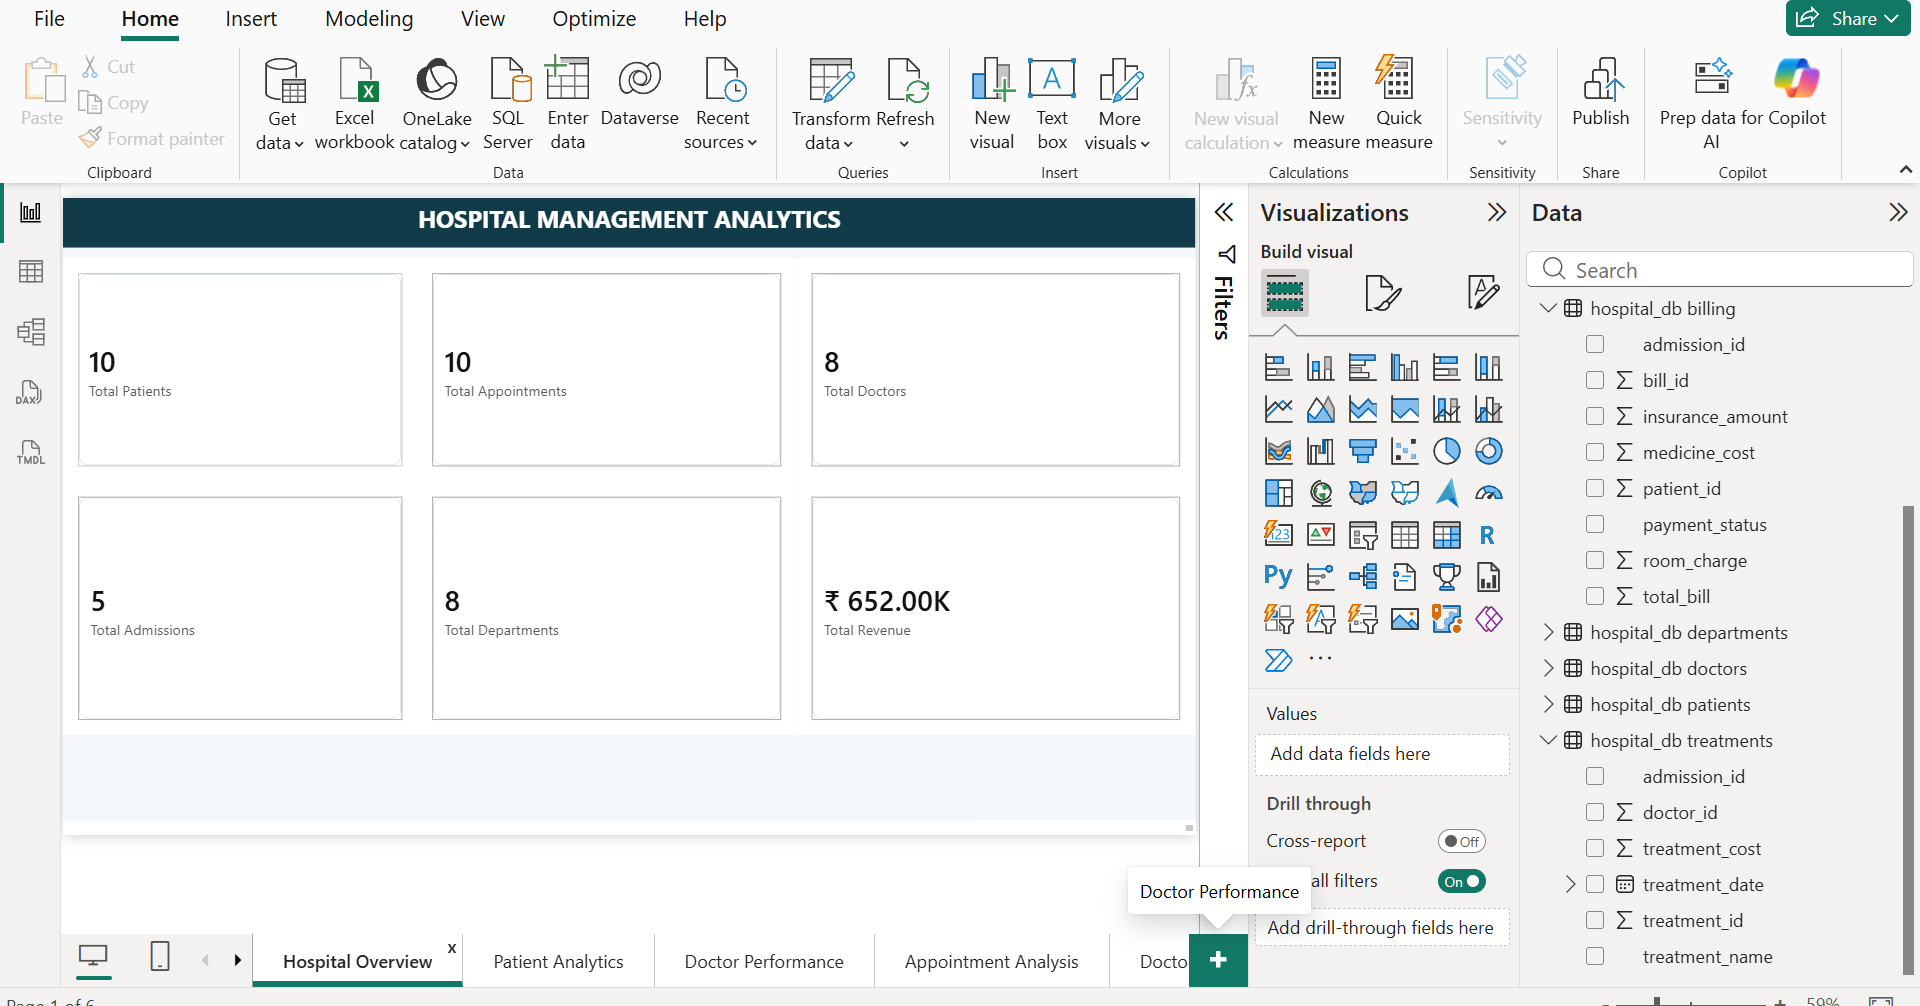

This screenshot's page, from the dashboard's own definition file:
{"tool":"powerbi","page":{"name":"Hospital Overview","canvas":[1280,720],"ordinal":0},"visuals":[{"type":"cardVisual","title":"Total Patients","fields":{"Data":["CountNonNull(hospital_db patients.patient_id)"]},"box":[0,67.8,400,252.5],"z":0},{"type":"cardVisual","title":"Total Doctors","fields":{"Data":["CountNonNull(hospital_db doctors.doctor_id)"]},"box":[828.8,67.8,450.8,252.5],"z":1000},{"type":"cardVisual","title":"Total Departments","fields":{"Data":["CountNonNull(hospital_db departments.department_id)"]},"box":[400,320.3,428.8,286.4],"z":2000},{"type":"cardVisual","title":"Total Appointments","fields":{"Data":["CountNonNull(hospital_db appointments.appointment_id)"]},"box":[400,67.8,428.8,252.5],"z":3000},{"type":"cardVisual","title":"Total Admissions","fields":{"Data":["CountNonNull(hospital_db admissions.admission_id)"]},"box":[0,320.3,400,286.4],"z":4000},{"type":"cardVisual","title":"Total Revenue","fields":{"Data":["Sum(hospital_db billing.total_bill)"]},"box":[828.8,320.3,450.8,286.4],"z":5000},{"type":"textbox","box":[0,703.4,1279.7,16.9],"z":6000},{"type":"textbox","box":[0,0,1279.7,55.9],"z":7000},{"type":"textbox","box":[1030.5,703.4,250.8,16.9],"z":8000}]}

Visuals, with their boxes on the page's 1280x720 design canvas (x1, y1, x2, y2). These are canvas units, not pixel positions in the 1920x1006 screenshot, which may show the page scaled, cropped or inside an application window:
"Total Patients" cardVisual: Rect(0, 68, 400, 320)
"Total Doctors" cardVisual: Rect(829, 68, 1280, 320)
"Total Departments" cardVisual: Rect(400, 320, 829, 607)
"Total Appointments" cardVisual: Rect(400, 68, 829, 320)
"Total Admissions" cardVisual: Rect(0, 320, 400, 607)
"Total Revenue" cardVisual: Rect(829, 320, 1280, 607)
textbox: Rect(0, 703, 1280, 720)
textbox: Rect(0, 0, 1280, 56)
textbox: Rect(1030, 703, 1281, 720)
